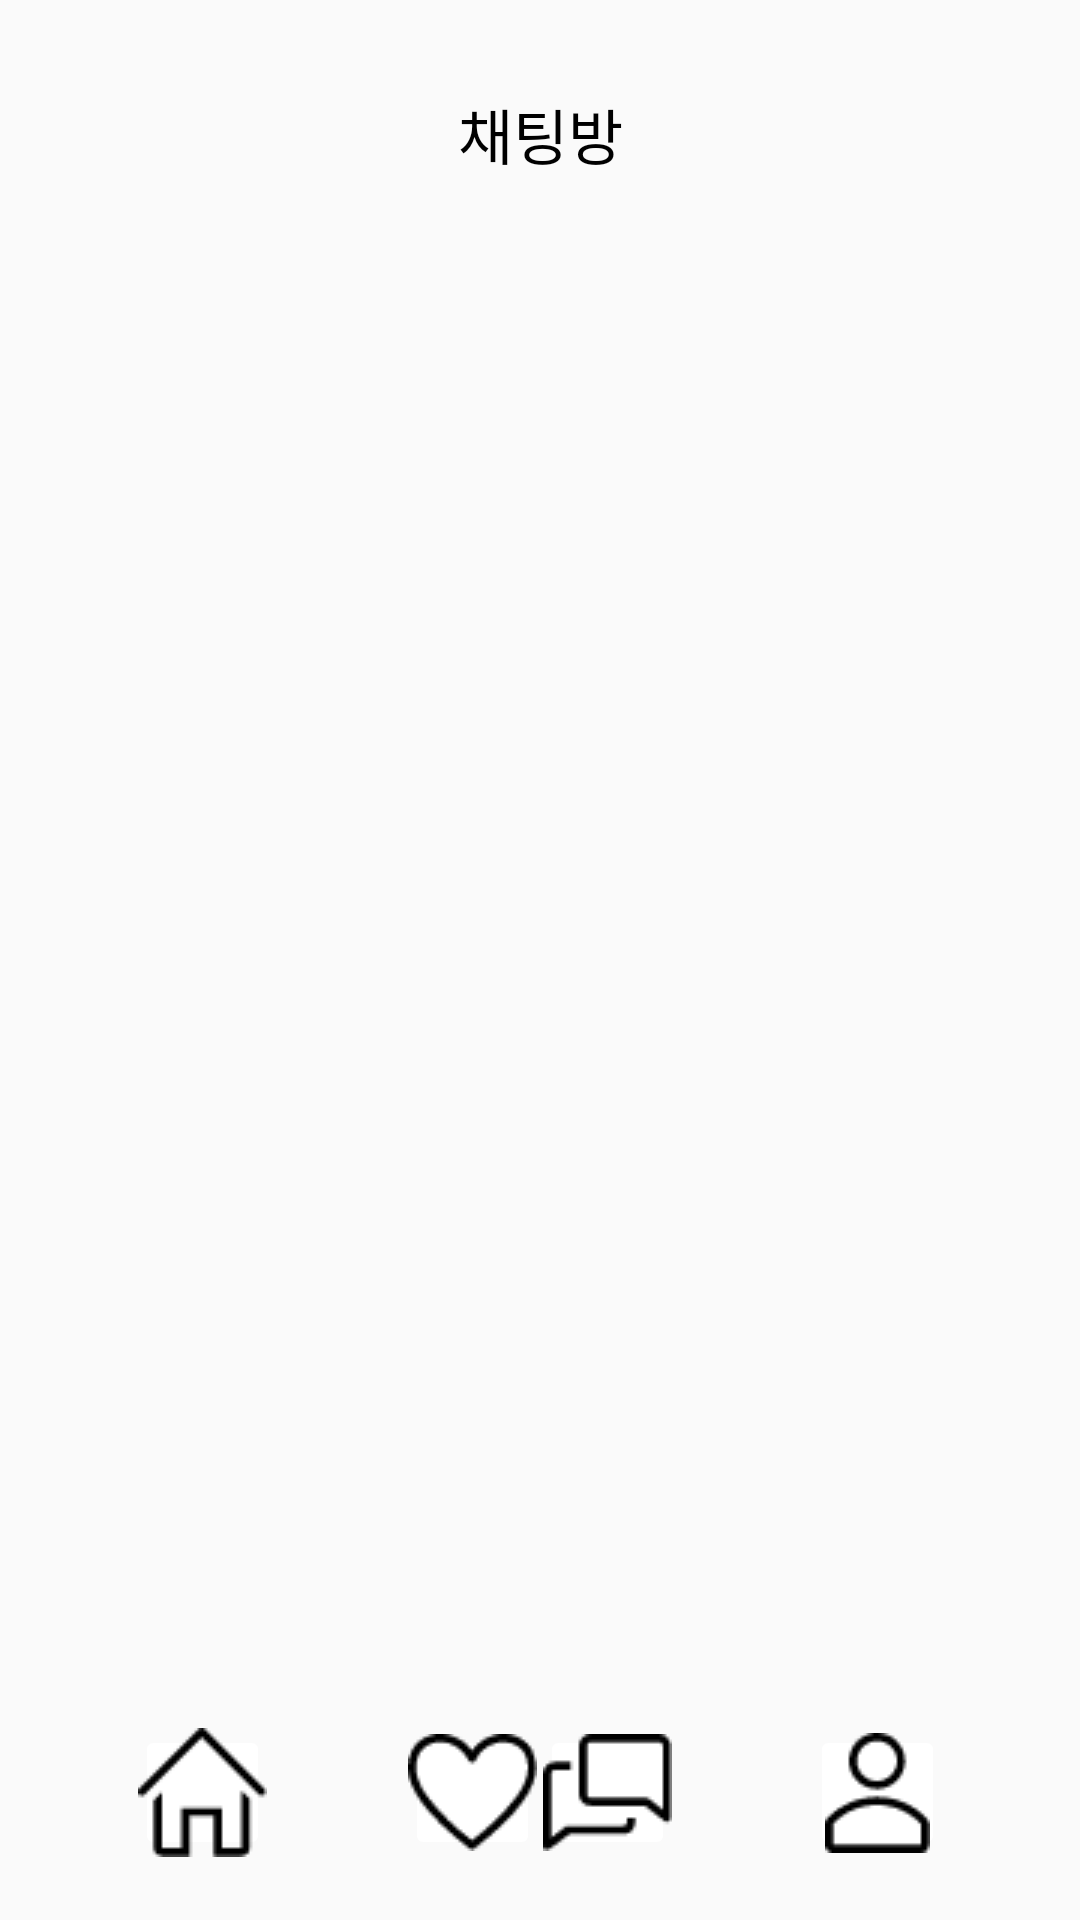

Where to tap for icons on this 1080x1920 app screen, as (x=x, y=y):
heart line: (x=472, y=1792)
home line: (x=202, y=1792)
talk line: (x=607, y=1792)
